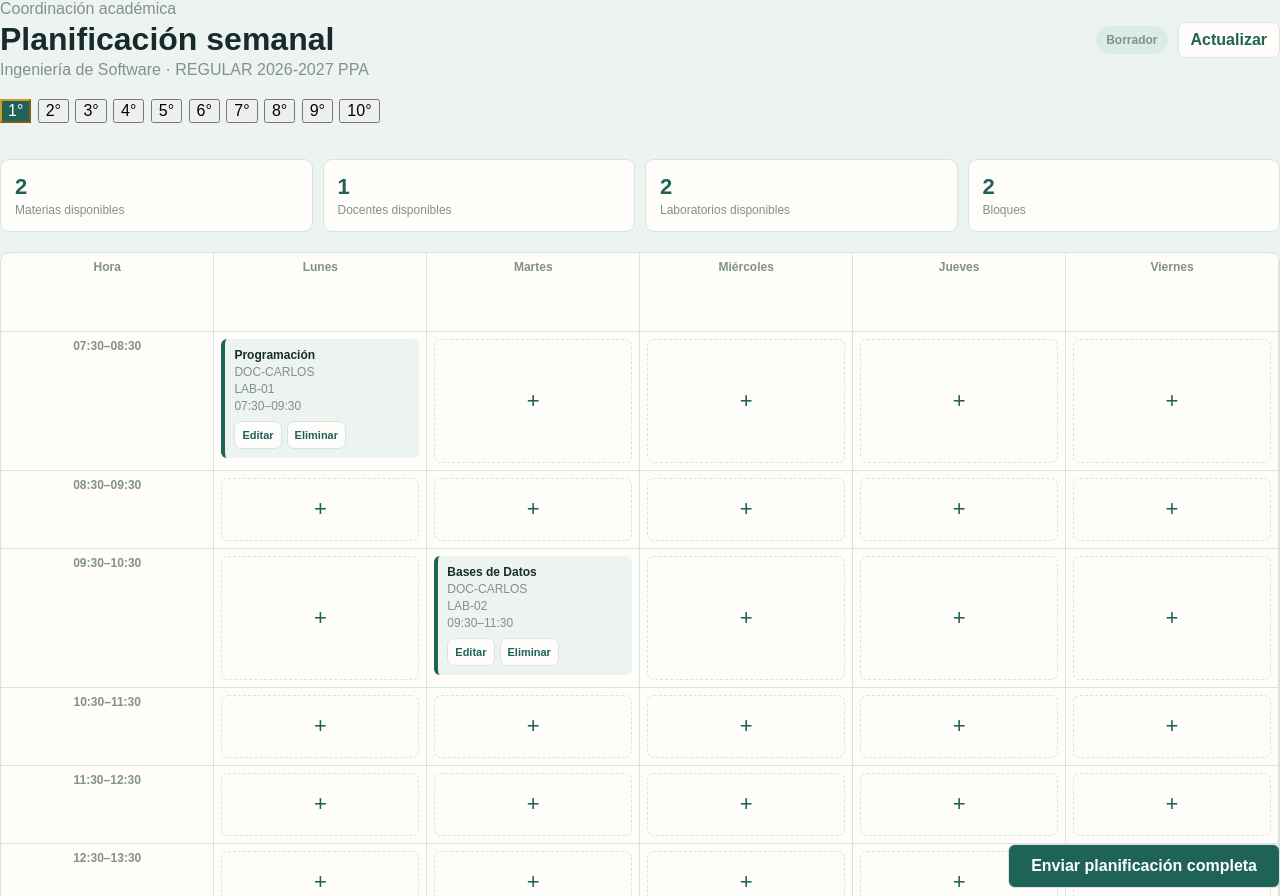
Scenario: CoordinadorPlanificacion › guarda una nueva asignación como borrador
This screenshot has width=1280, height=896.
Expected: the text "Programación" is shown, [234,348,315,362]
Click the button named "Agregar MIERCOLES 10:30" at (746,726), box [647,694,845,758]
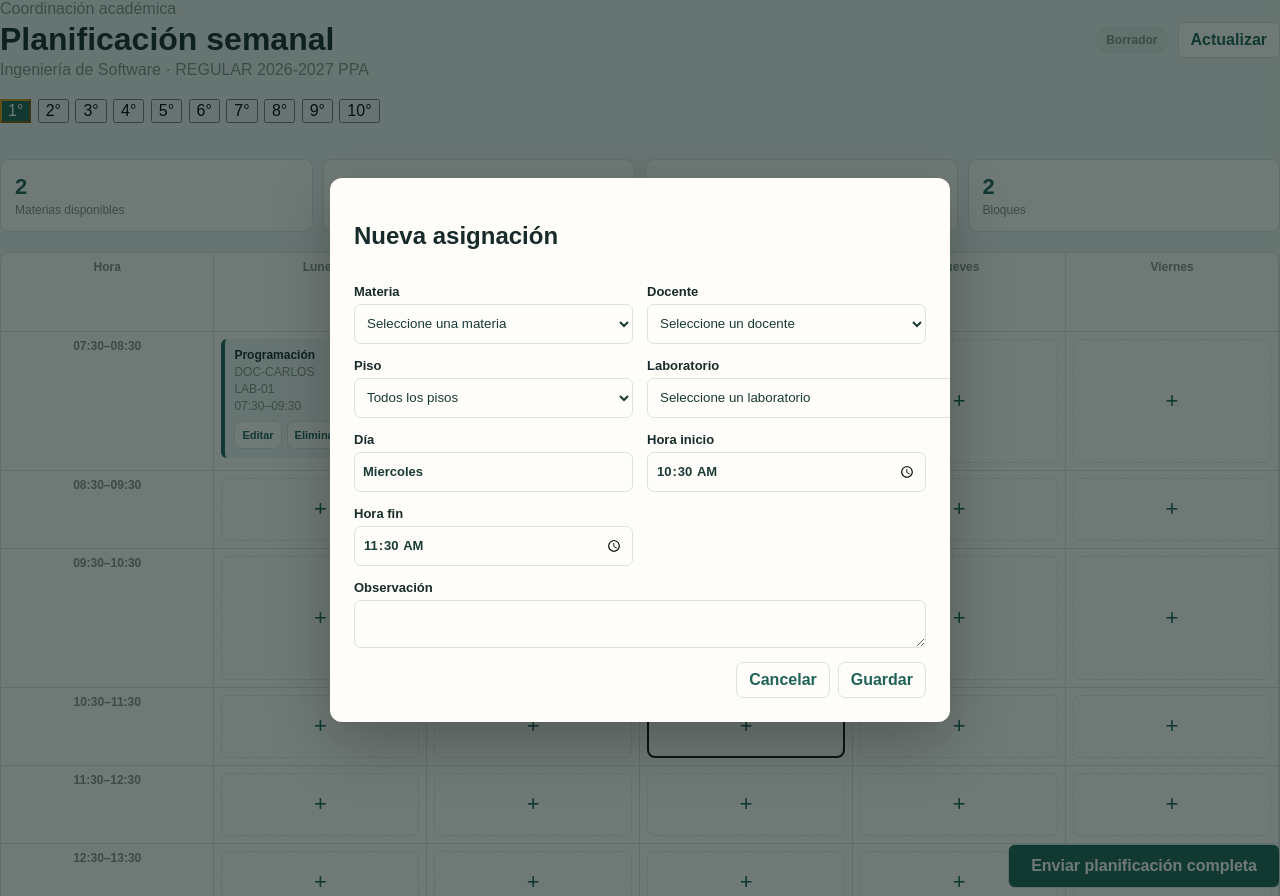
Select "BDD — Bases de Datos" in the dropdown labelled "Materia" at (494,324), box [354,304,633,344]
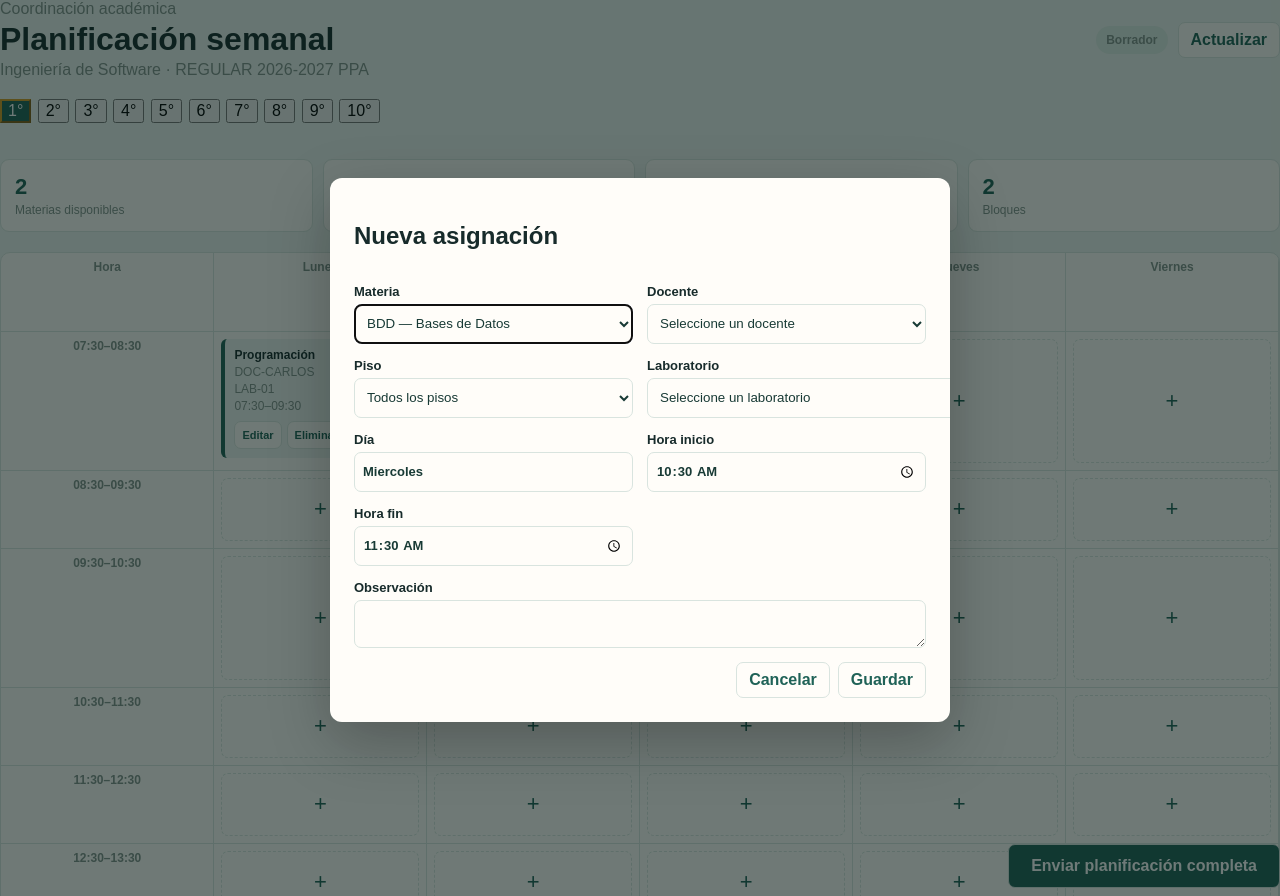
Select "DOC-CARLOS — DISPONIBLE" in the dropdown labelled "Docente" at (786,324), box [647,304,926,344]
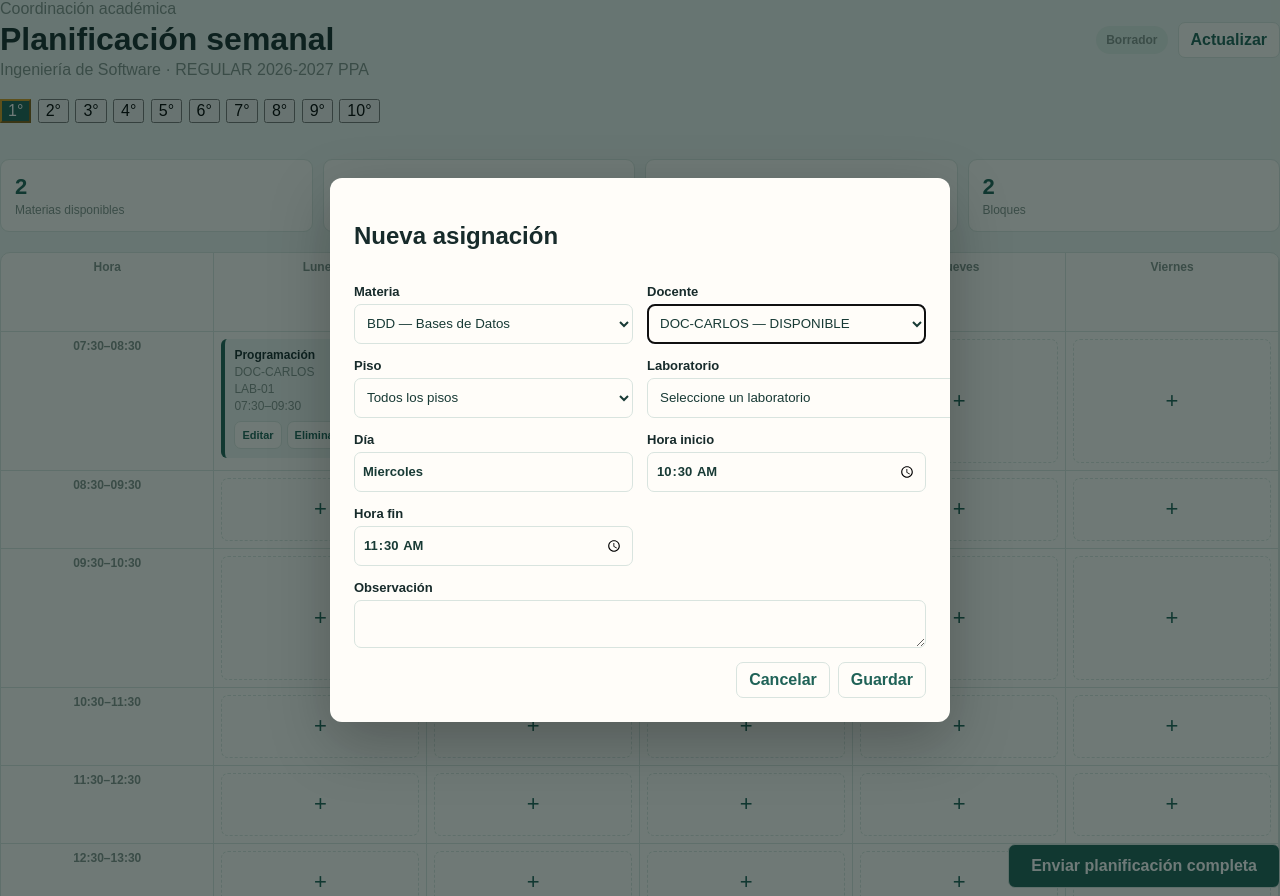
Select "LAB-02 — Laboratorio de Bases de Datos · Capacidad 30 — DISPONIBLE" in the dropdown labelled "Laboratorio" at (888,398), box [647,378,1129,418]
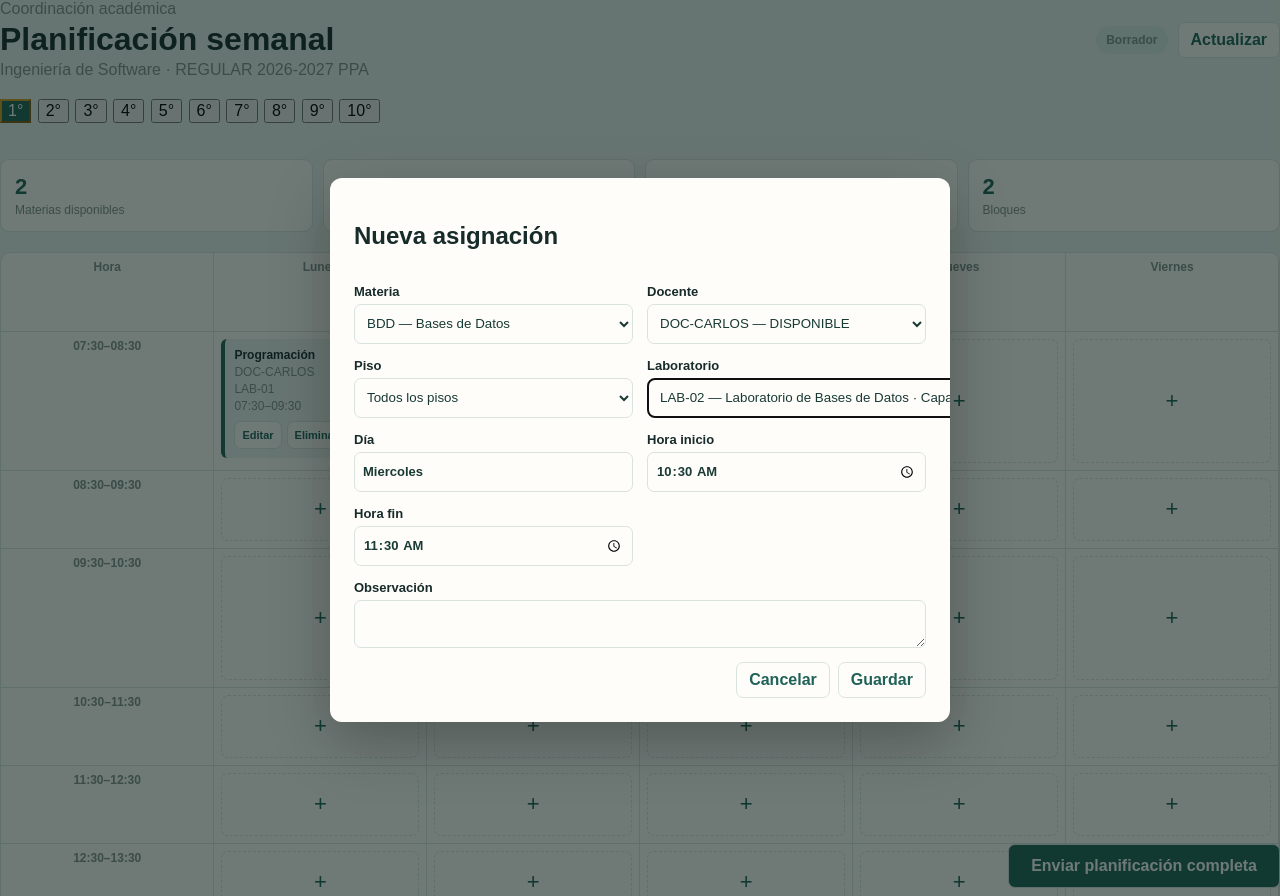
Click the button "Guardar" at (882,680), box [838,662,926,698]
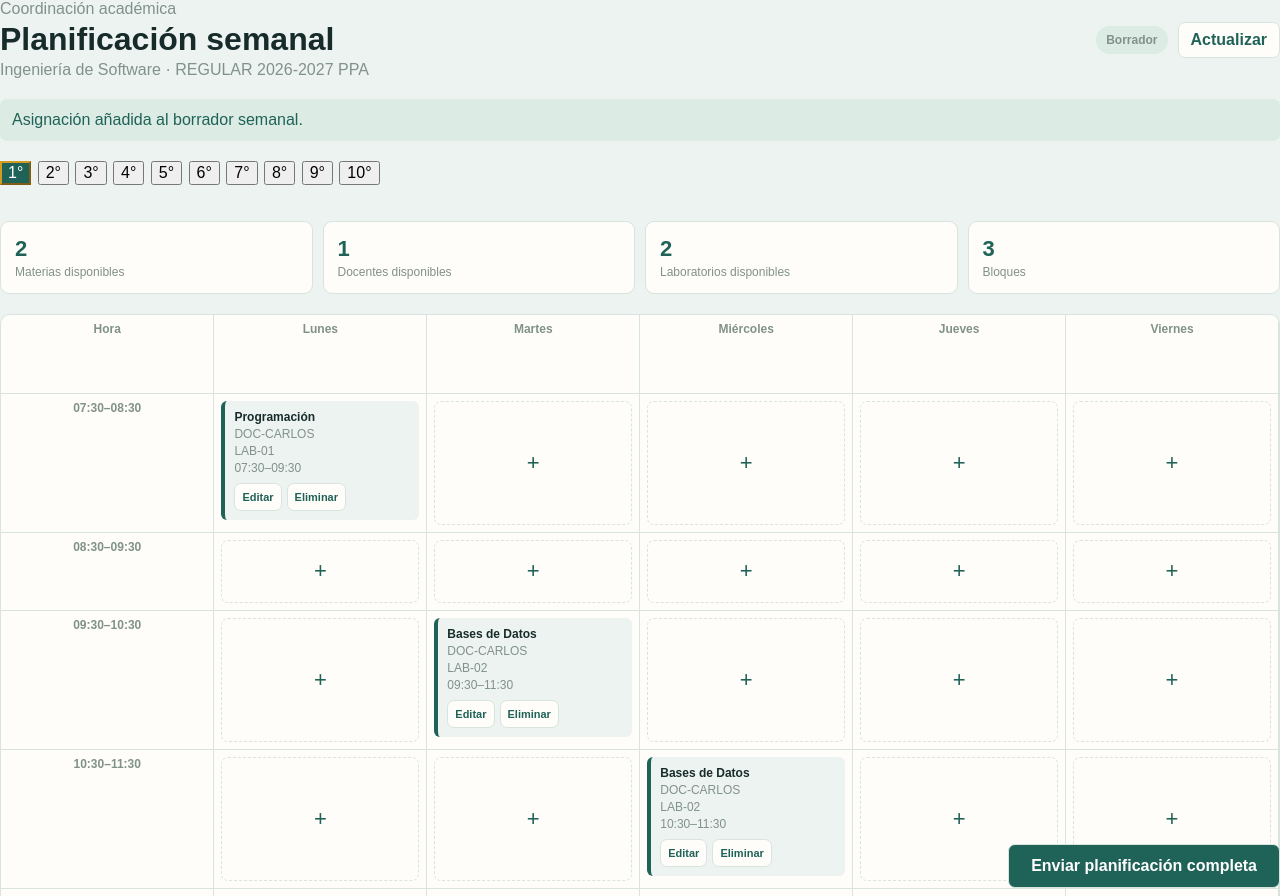
Expected: the text "Bases de Datos" is shown 2 times, [447,626,537,640]; [660,766,750,780]
